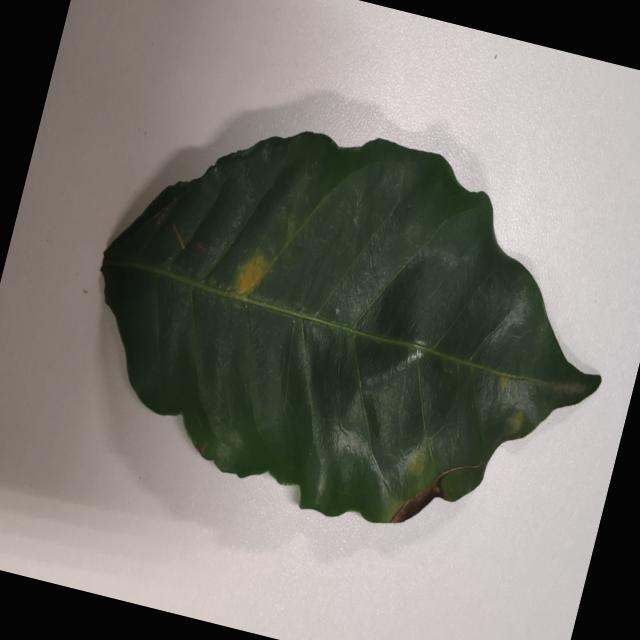KaratDaunKopi: (236, 253, 269, 294)
